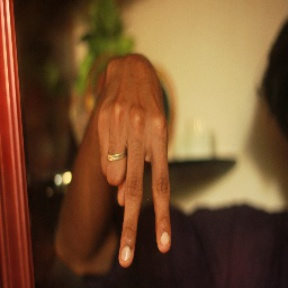Y: (97, 86, 177, 269)
